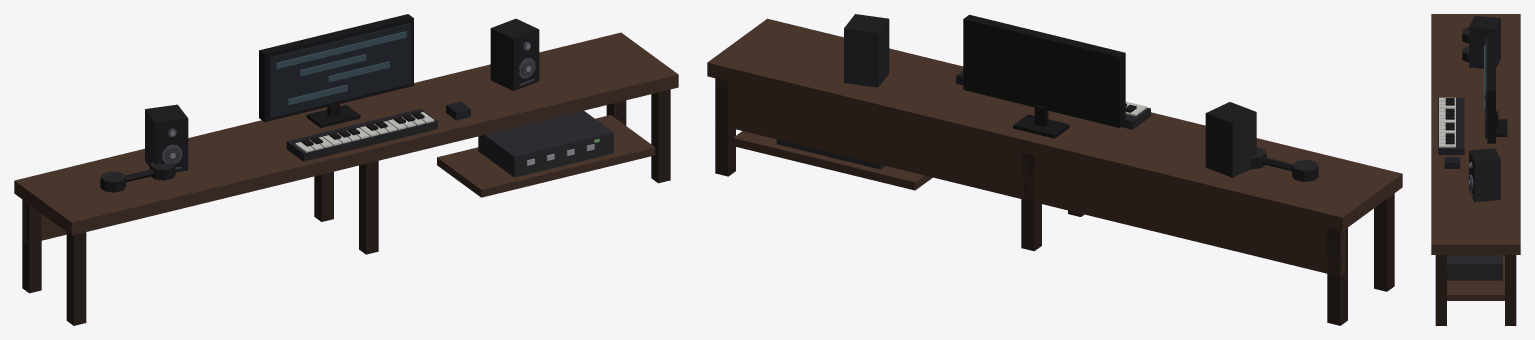
Rendered from dtm_desk_large.fbx.
3 views of the same model, side by side, from view 1: azimuth 30°, elevation 25°; view 2: azimuth 150°, elevation 25°; view 3: azimuth 270°, elevation 25° (orthographic). The views are drawn at different scales.
Visible parts, largest first — view 1: dtm_desk_large, monitor_speaker_R, monitor_speaker_L; view 2: dtm_desk_large, monitor_speaker_L, monitor_speaker_R; view 3: dtm_desk_large, monitor_speaker_R, monitor_speaker_L.
Part boxes in pixels (x1,y1,x2,y2): dtm_desk_large: (14, 14, 678, 325); monitor_speaker_R: (490, 18, 539, 90); monitor_speaker_L: (145, 104, 188, 171); dtm_desk_large: (707, 14, 1402, 325); monitor_speaker_L: (1205, 102, 1256, 177); monitor_speaker_R: (844, 14, 889, 87); dtm_desk_large: (1431, 14, 1520, 325); monitor_speaker_R: (1468, 148, 1500, 202); monitor_speaker_L: (1468, 16, 1500, 68).
Size of the model in its own units: 2.44 by 0.74 by 0.4.
